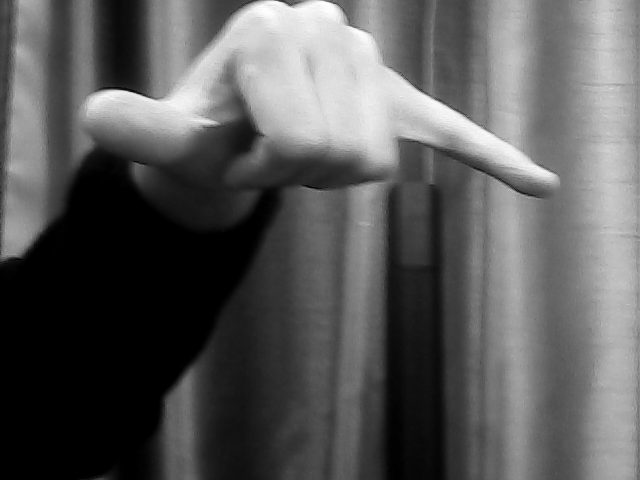aloha: (81, 1, 564, 205)
